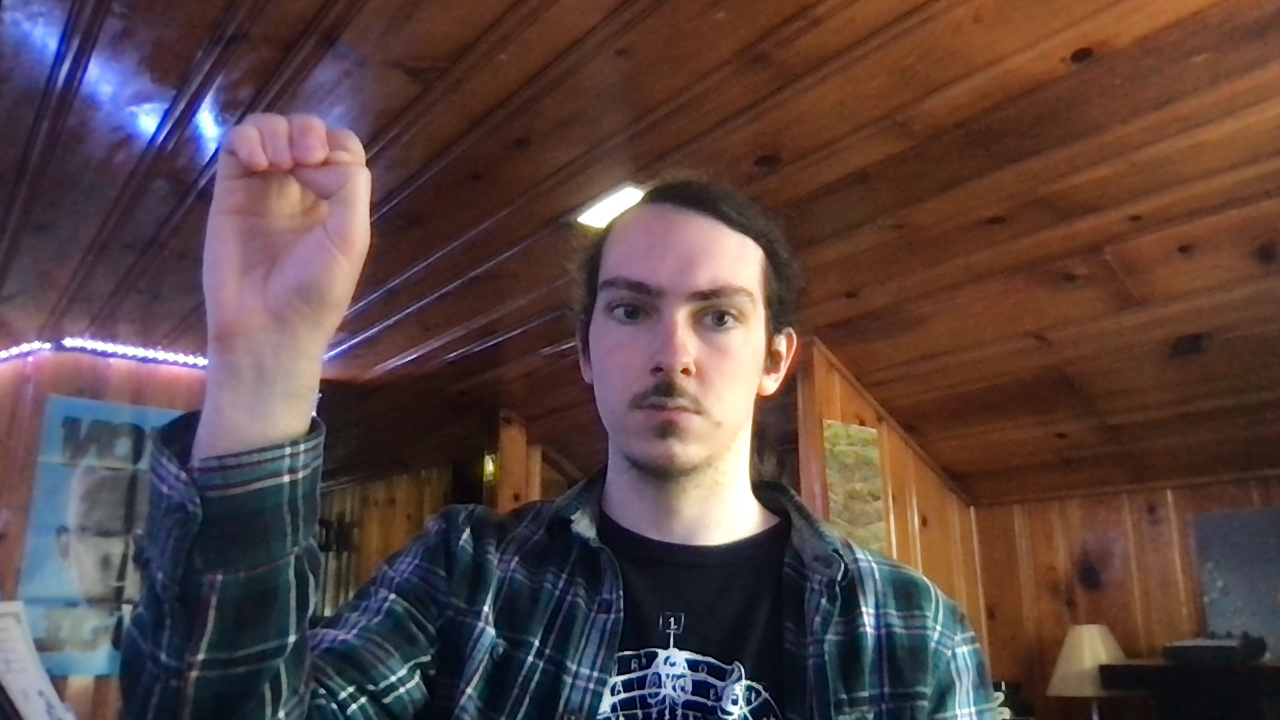e: (200, 109, 375, 346)
